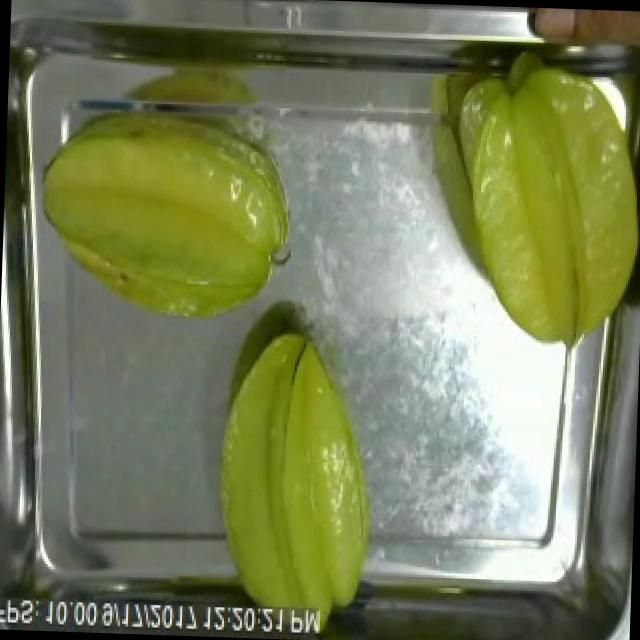fruit: (26, 87, 306, 336), (441, 39, 640, 354), (193, 314, 390, 628)
